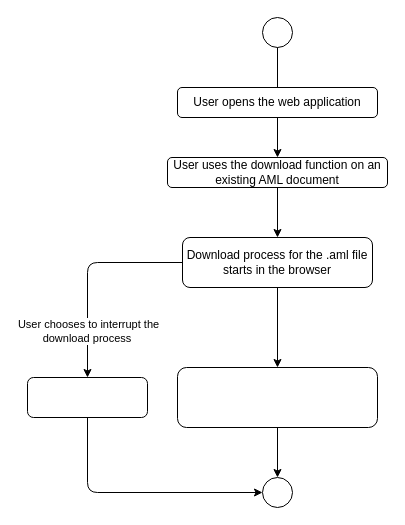
The diagram is 405 pixels wide and 525 high, and some of its shapes have lost their labels. Here are the shapes that lost their labels. From the top down, the centre of each, then its label:
At point 87,397: "Editing view of the chosen file is opened".
At point 277,397: "Download process finishes. File can be used locally by user.".
